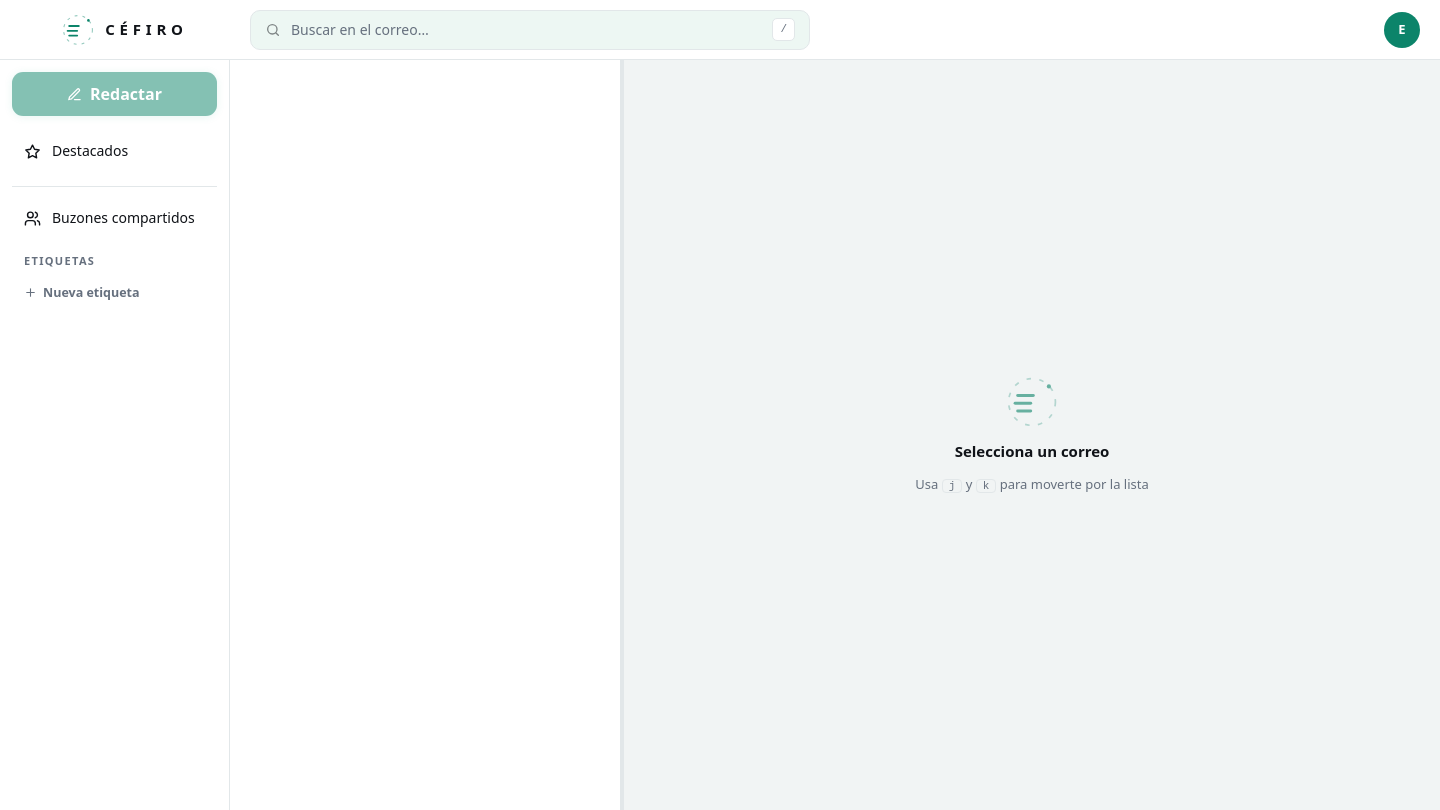
it: auth flow › shows the home shell when /me returns a user
Expected: the text "CÉFIRO" is shown, [105,18,188,41]
Click the button "E" at (1402, 30), box [1384,12,1420,48]
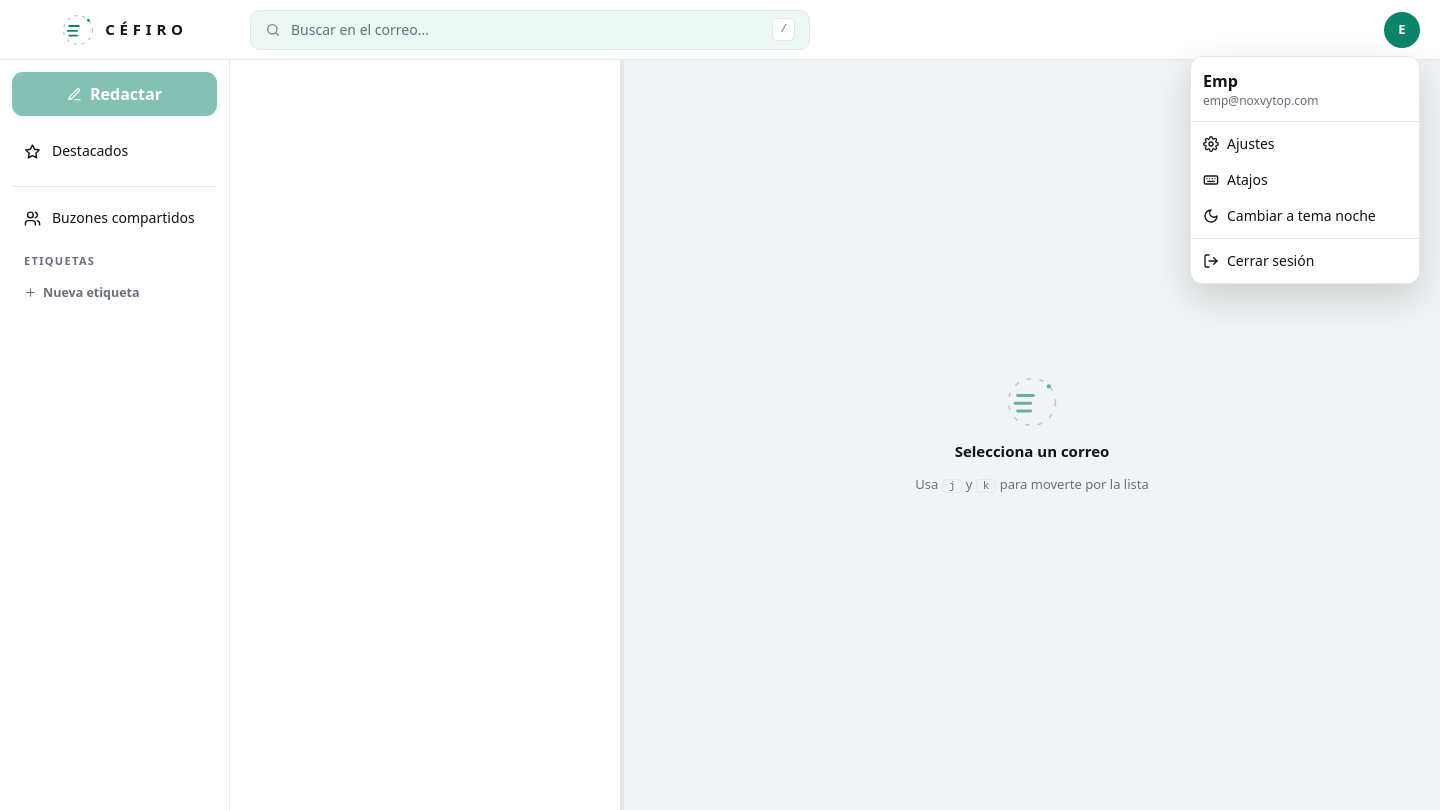
Now the menu item "Cerrar sesión" is shown, box [1191,242,1419,278]
